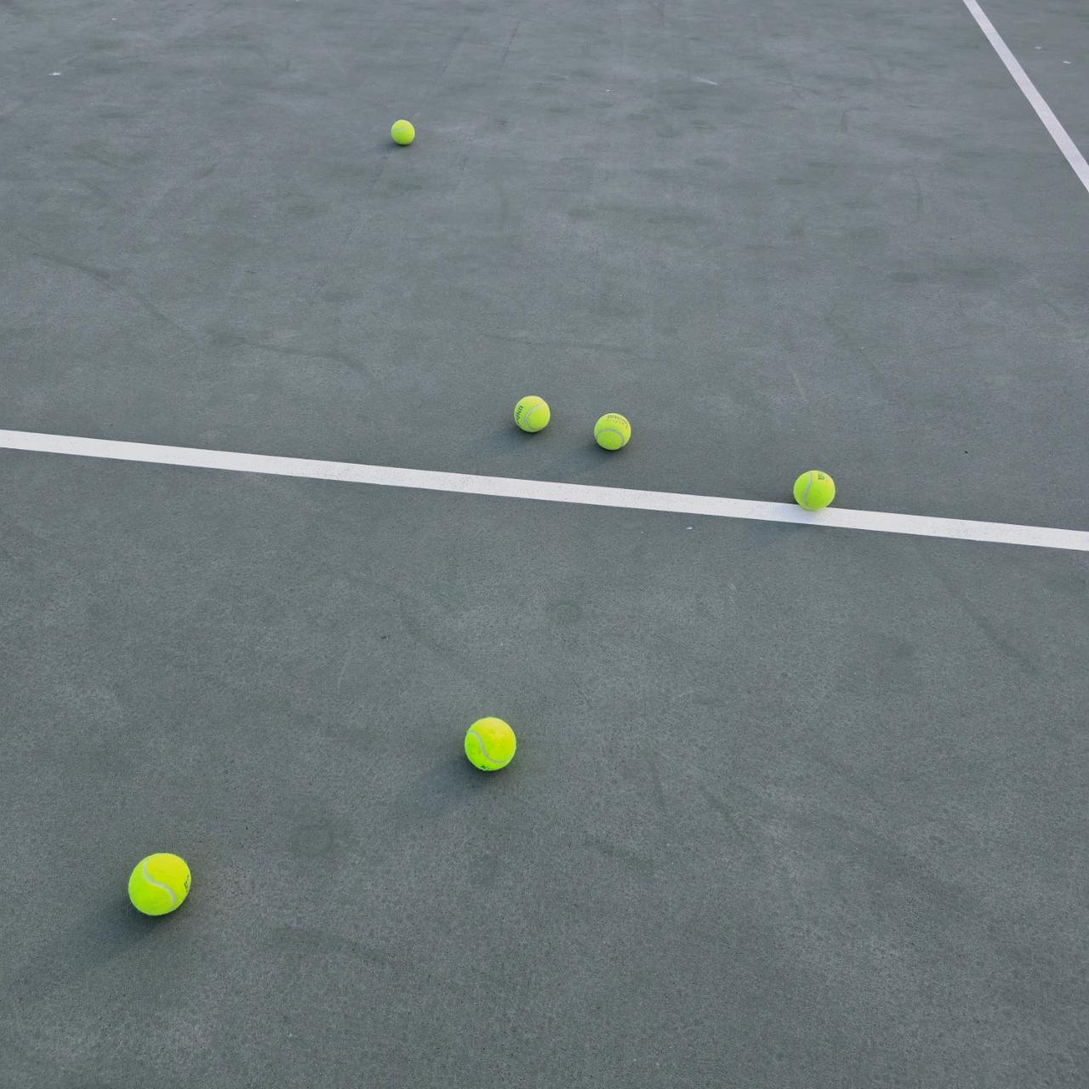tennis-ball: (126, 850, 192, 917), (462, 714, 517, 773), (791, 467, 836, 510), (592, 410, 631, 451), (511, 393, 550, 433), (389, 117, 416, 145)
